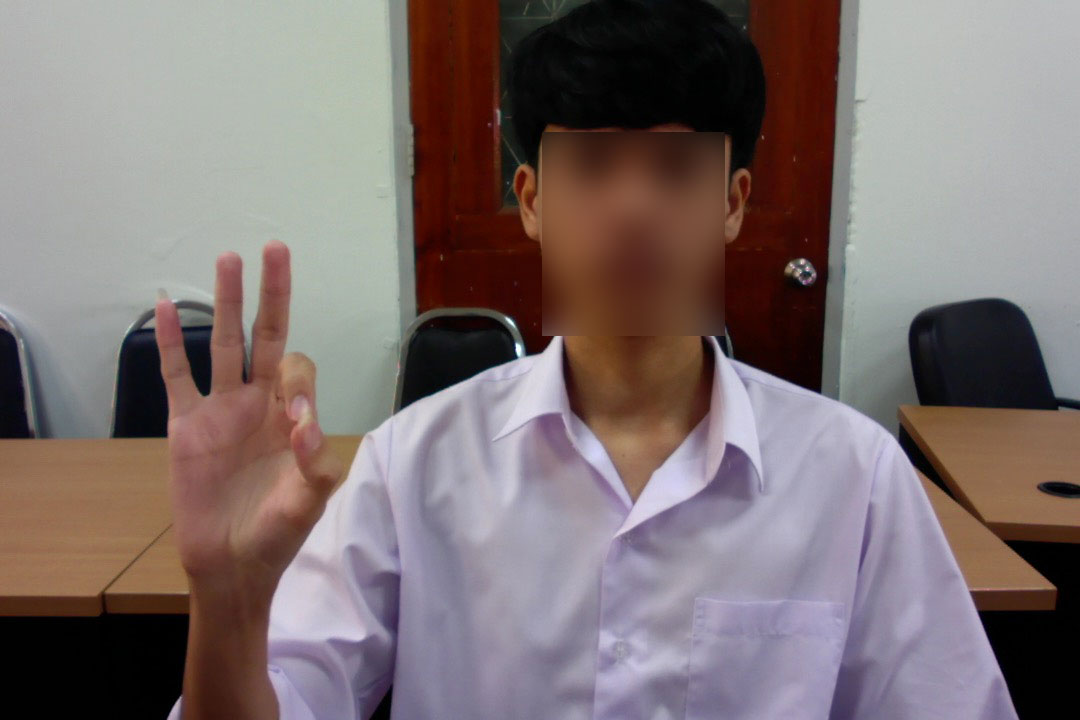for: (120, 217, 367, 625)
